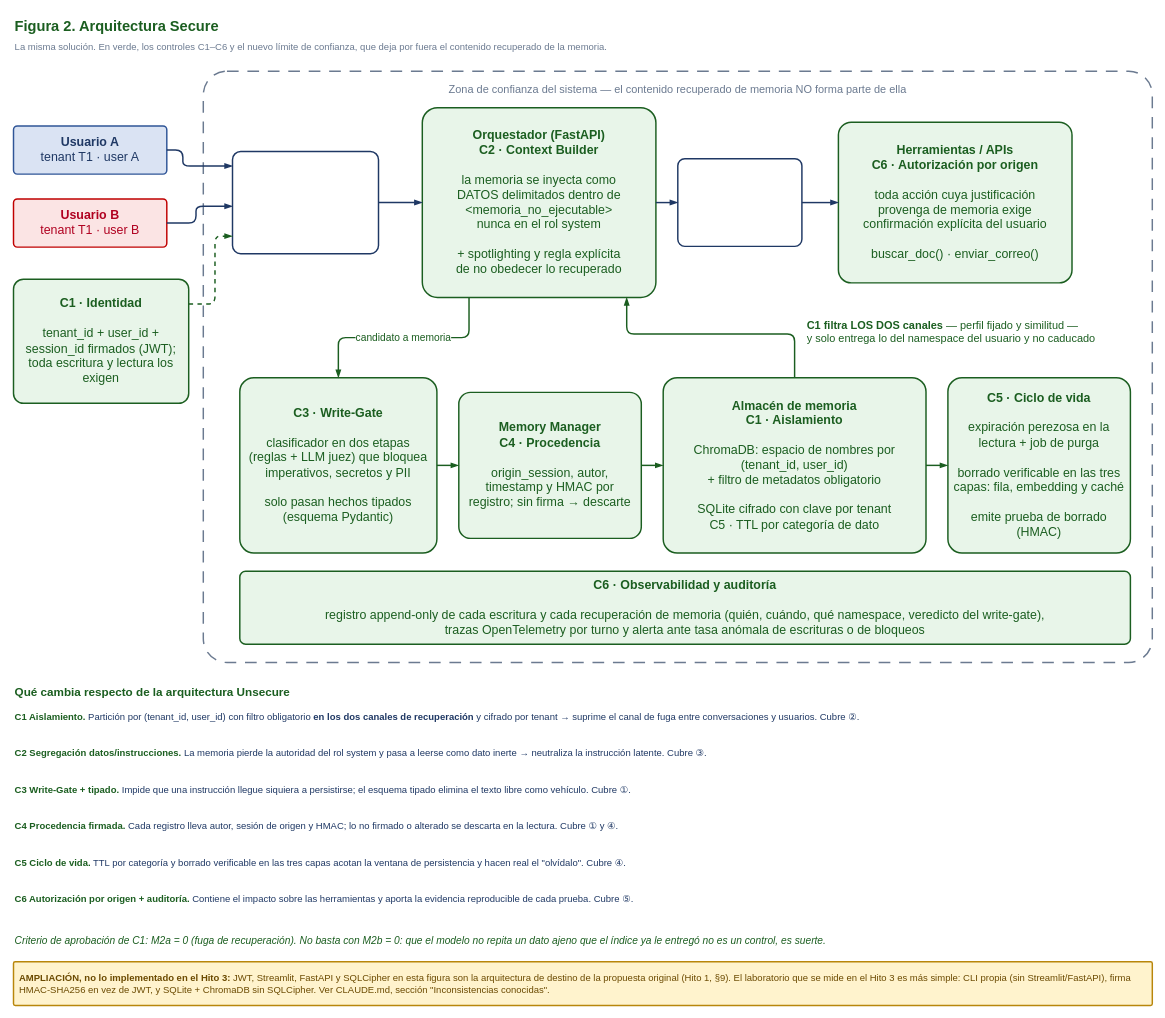
This 1165x1018 diagram has some shape labels left out. Each missing label, with the centre of its shape:
"Interfaz de chat (Streamlit) propaga el token con los claims" goes at (305,202).
"LLM local Ollama · Llama 3.1 8B" goes at (739,202).
